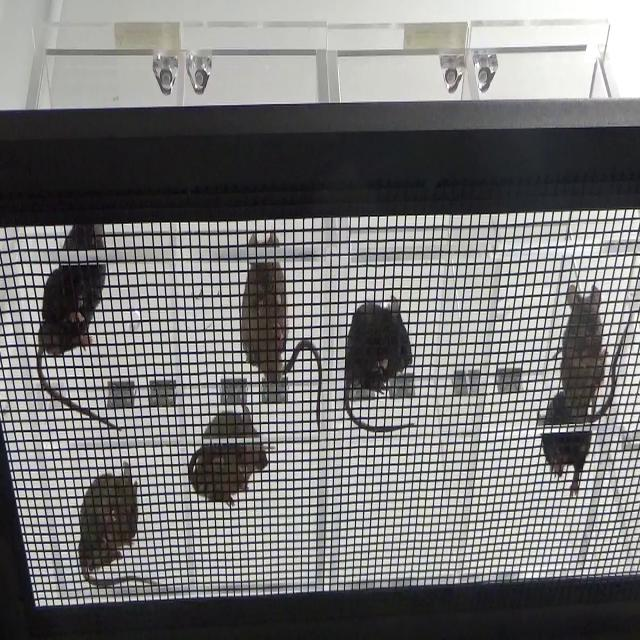scratch: (548, 276, 631, 422)
